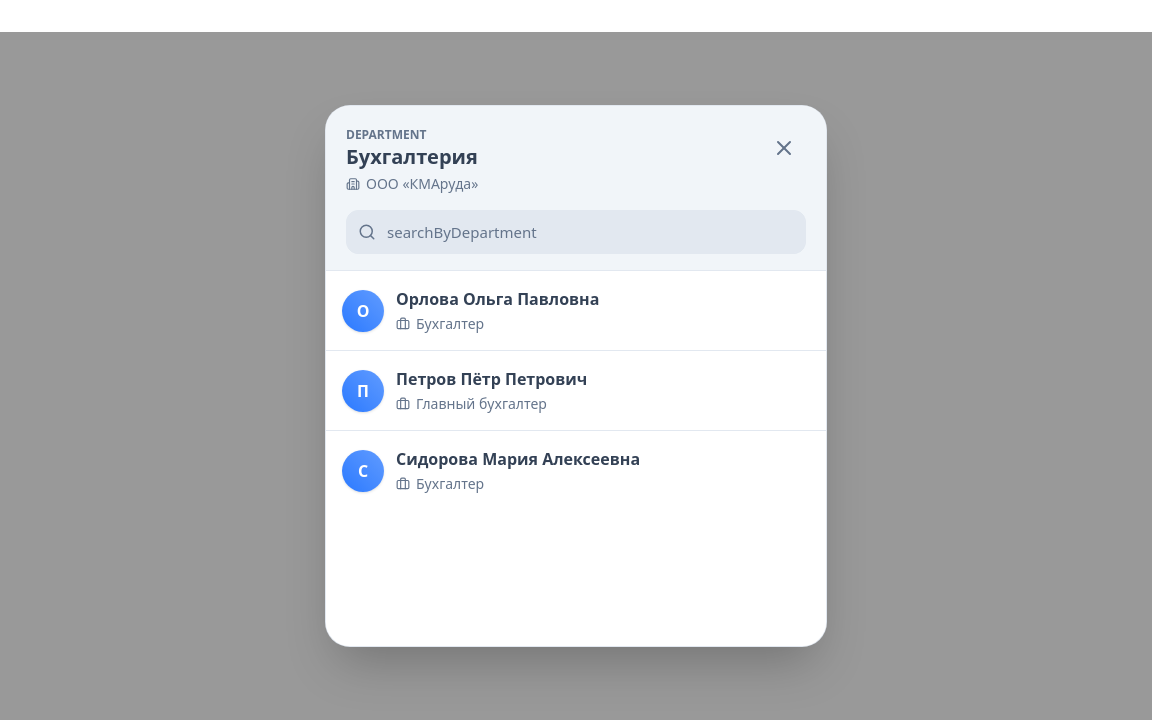
Test: ColleaguesModal › поиск внутри списка фильтрует строки без повторного запроса
Expected: the text "Орлова Ольга Павловна" is shown, [396,288,599,310]
Type "главный" into the field labelled "searchByDepartment". click: [576, 232]
box: [346,210,806,254]
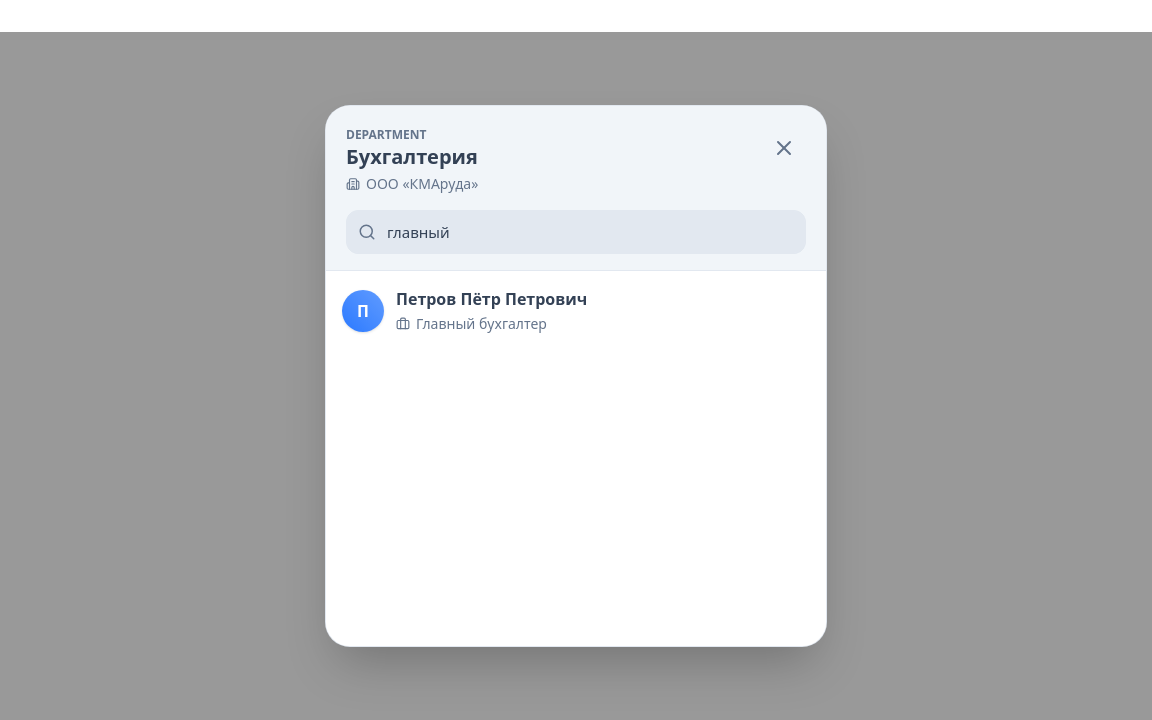
Expected: the text "Петров Пётр Петрович" is shown, [396,288,587,310]
Expected: the button "Орлова Ольга Павловна" is gone
